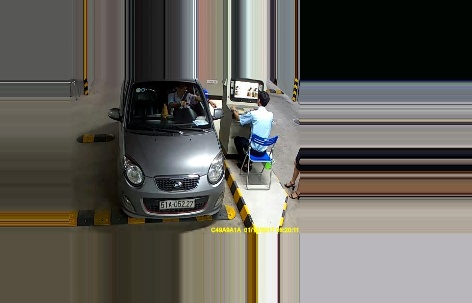plate: (160, 198, 196, 207)
